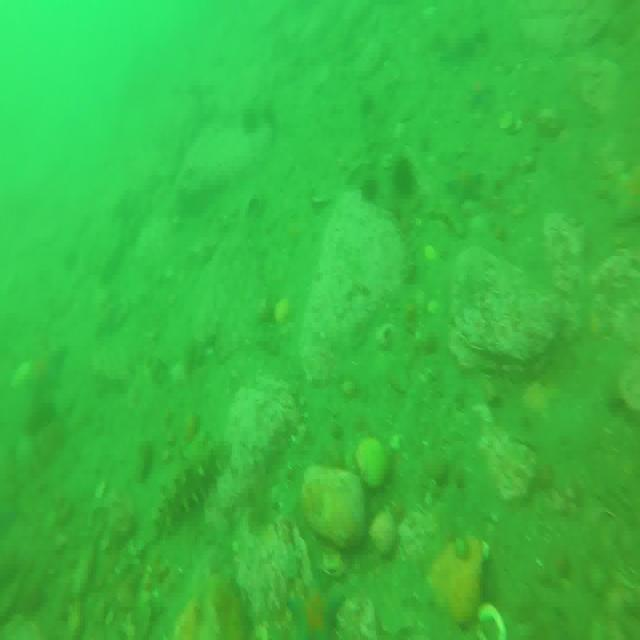echinus: (393, 155, 418, 196)
holothurian: (154, 438, 228, 537)
scallop: (475, 599, 508, 640)
starfish: (290, 576, 347, 640), (465, 73, 495, 111)
